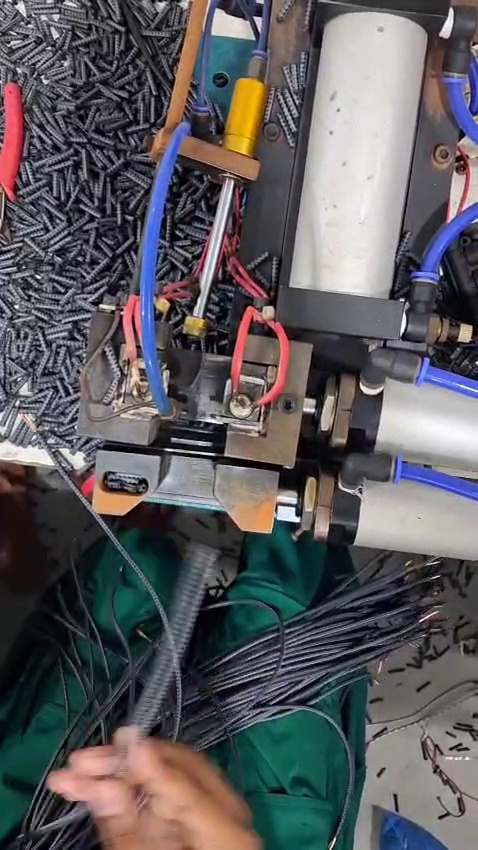intact_wire: (173, 525, 232, 669), (306, 692, 368, 783), (353, 572, 408, 662)
machine: (62, 288, 325, 537)
peeled_wire: (8, 403, 76, 475)
